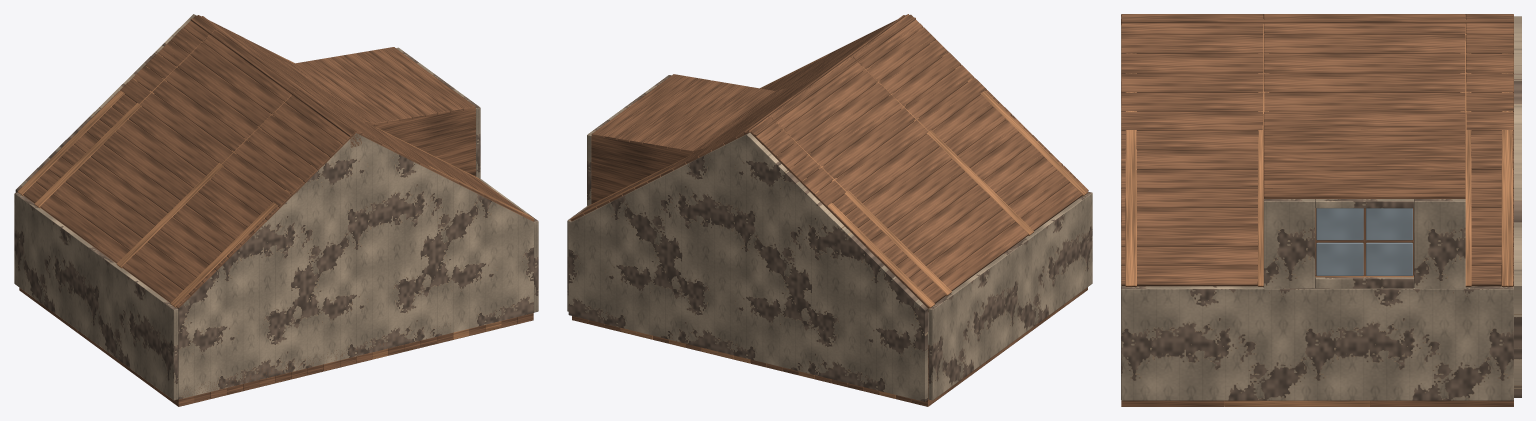
The model's file is OldAttic.fbx.
The picture shows the model from 3 angles, left to right: view 1: azimuth 30°, elevation 25°; view 2: azimuth 150°, elevation 25°; view 3: azimuth 270°, elevation 25°; orthographic projection. The views are drawn at different scales.
Parts seen in each view (by area): view 1: Front gable, West knee wall, Dormer triangular return, Ceiling plank.015, Ceiling plank.016, Ceiling plank.017, Ceiling plank.018, Ceiling plank.019, Ceiling plank.027, Ceiling plank.022, Ceiling plank.021, Ceiling plank.020 (+35 smaller); view 2: Rear gable, West knee wall, Dormer triangular return.001, Ceiling plank.015, Ceiling plank.016, Ceiling plank.017, Ceiling plank.019, Ceiling plank.018, Ceiling plank.027, Ceiling plank.021, Ceiling plank.022, Ceiling plank.020 (+37 smaller); view 3: East knee wall, Dormer cheek lining, Dormer cheek lining.001, Ceiling plank.057, Ceiling plank.058, Ceiling plank.059, Ceiling plank.060, Ceiling plank.056, Rear gable, Ceiling plank.061, Ceiling plank.043, Ceiling plank.044 (+49 smaller).
Part boxes in pixels (x1,y1,x2,y2): Front gable: [177, 133, 533, 399]; West knee wall: [14, 192, 178, 400]; Dormer triangular return: [373, 108, 475, 176]; Ceiling plank.015: [190, 42, 284, 113]; Ceiling plank.016: [178, 55, 271, 126]; Ceiling plank.017: [165, 67, 258, 139]; Ceiling plank.018: [153, 80, 245, 151]; Ceiling plank.019: [140, 93, 232, 163]; Ceiling plank.027: [40, 194, 129, 263]; Ceiling plank.022: [103, 132, 193, 200]; Ceiling plank.021: [116, 119, 205, 187]; Ceiling plank.020: [129, 106, 218, 175]; Rear gable: [568, 132, 927, 401]; West knee wall: [928, 192, 1092, 400]; Dormer triangular return.001: [591, 136, 694, 203]; Ceiling plank.015: [783, 69, 877, 141]; Ceiling plank.016: [796, 82, 890, 153]; Ceiling plank.017: [809, 95, 902, 166]; Ceiling plank.019: [835, 120, 928, 190]; Ceiling plank.018: [822, 107, 915, 178]; Ceiling plank.027: [939, 222, 1028, 290]; Ceiling plank.021: [862, 146, 951, 215]; Ceiling plank.022: [875, 159, 964, 228]; Ceiling plank.020: [849, 134, 939, 202]; East knee wall: [1121, 286, 1513, 400]; Dormer cheek lining: [1263, 199, 1315, 288]; Dormer cheek lining.001: [1414, 199, 1465, 288]; Ceiling plank.057: [1264, 34, 1465, 53]; Ceiling plank.058: [1264, 54, 1465, 73]; Ceiling plank.059: [1264, 73, 1465, 92]; Ceiling plank.060: [1264, 92, 1465, 111]; Ceiling plank.056: [1263, 15, 1465, 34]; Rear gable: [1514, 16, 1521, 397]; Ceiling plank.061: [1263, 111, 1465, 126]; Ceiling plank.043: [1121, 34, 1263, 53]; Ceiling plank.044: [1121, 54, 1263, 73].
Bounding box in the file's own units: 462 × 281 × 357.
Materials: 7 (7 with a texture image).
